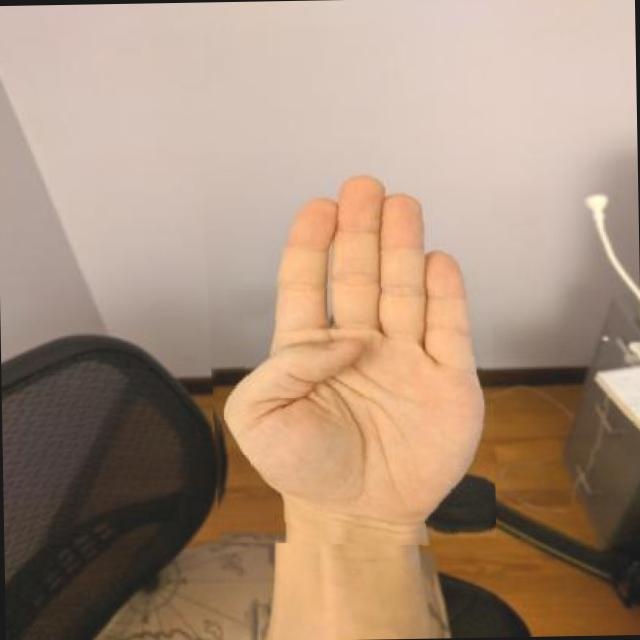B: (201, 170, 496, 551)
